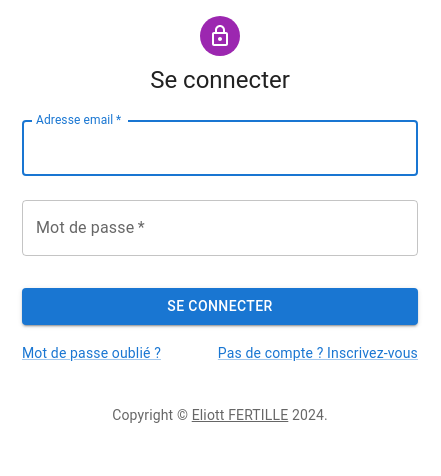
Test: Login Page › should show an error message for invalid credentials
Note: Entrer des identifiants incorrects
Type "wronguser@example.com" into the field named "email". click: (220, 148)
box: [22, 120, 418, 176]
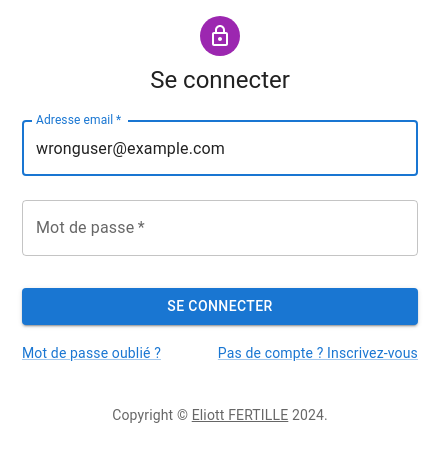
Type "wrongpassword" into the password field named "password". click: (220, 228)
box: [22, 200, 418, 256]
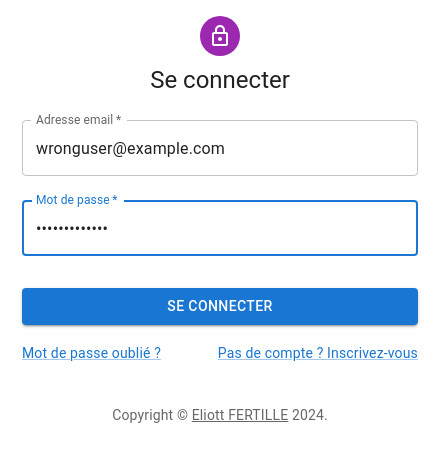
Click the submit button. click: (220, 307)
box: [22, 288, 418, 325]
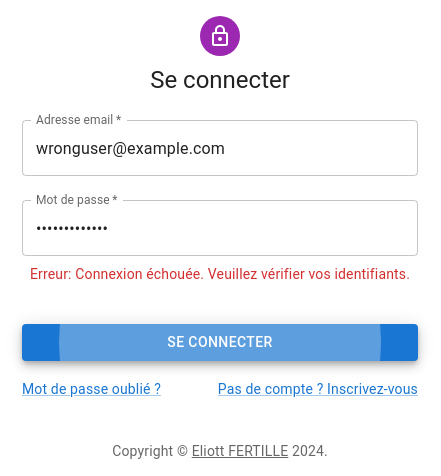
Check: the text "Erreur: Connexion échouée. Veuillez vérifier vos identifiants." is shown, box [22, 264, 418, 284]
